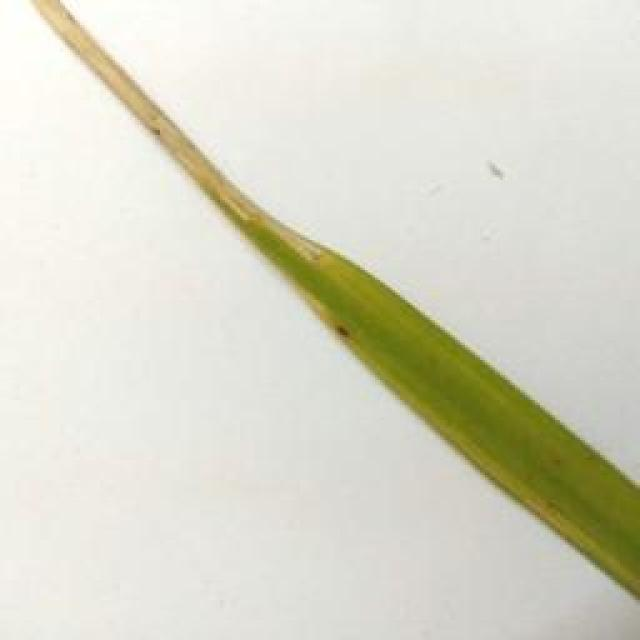Bacterial_Blight: (0, 0, 339, 275)
Brown_Spot: (325, 318, 357, 350)
